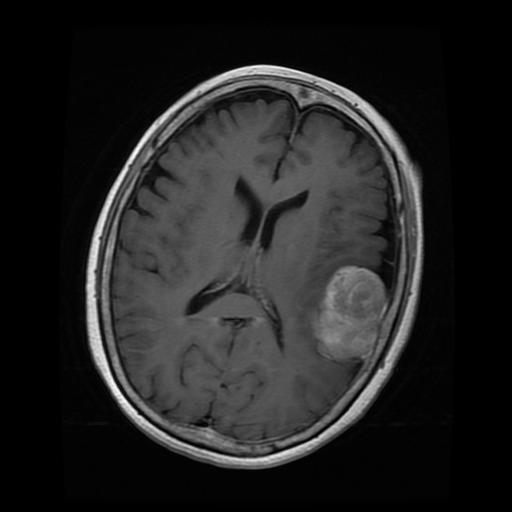Menigiomia_tumour: (316, 265, 384, 357)
